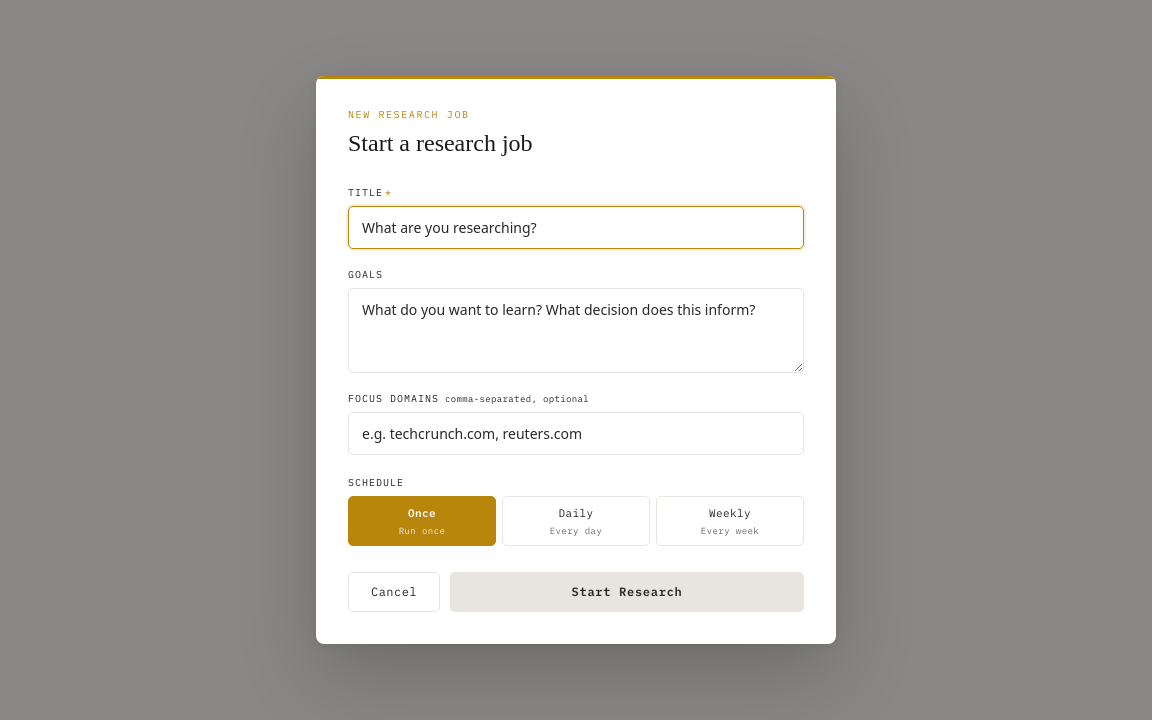
Test: NewResearchJobModal › Case 6 — Start Research button is enabled when at least one key is present
In the field with test id "research-title-input": (576, 228) [348,206,804,249], type "My Research Topic"
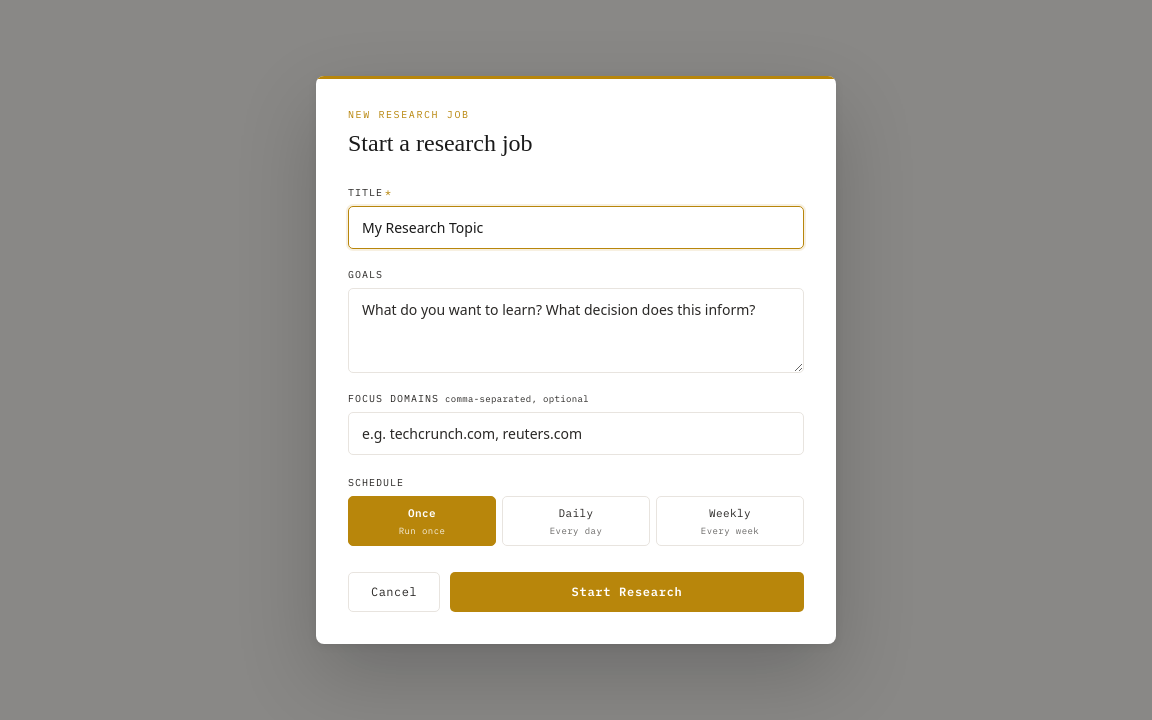
Now the button with test id "research-submit-btn" is enabled, box [450,572,804,612]
